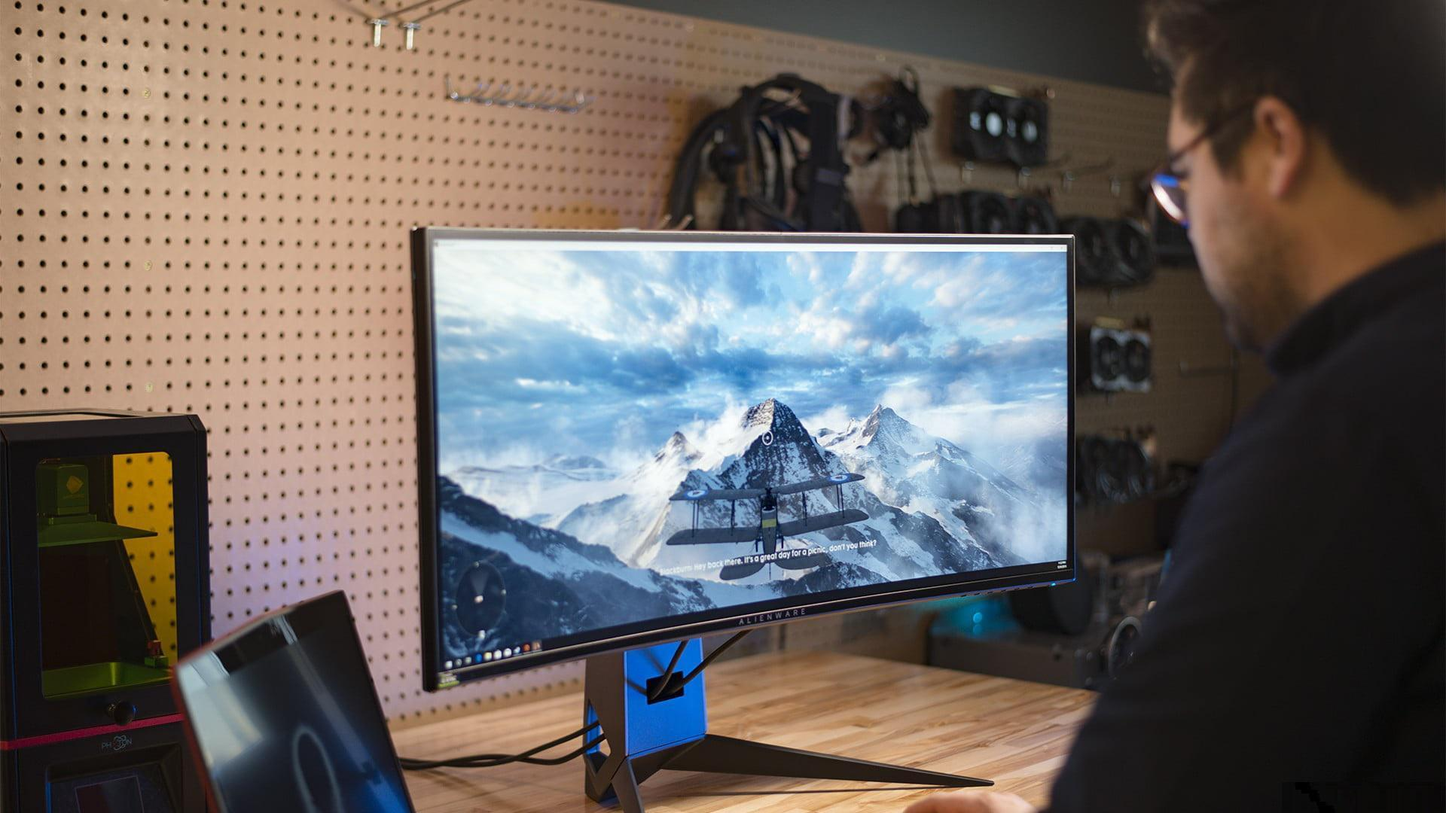monitor: (399, 211, 1088, 813)
